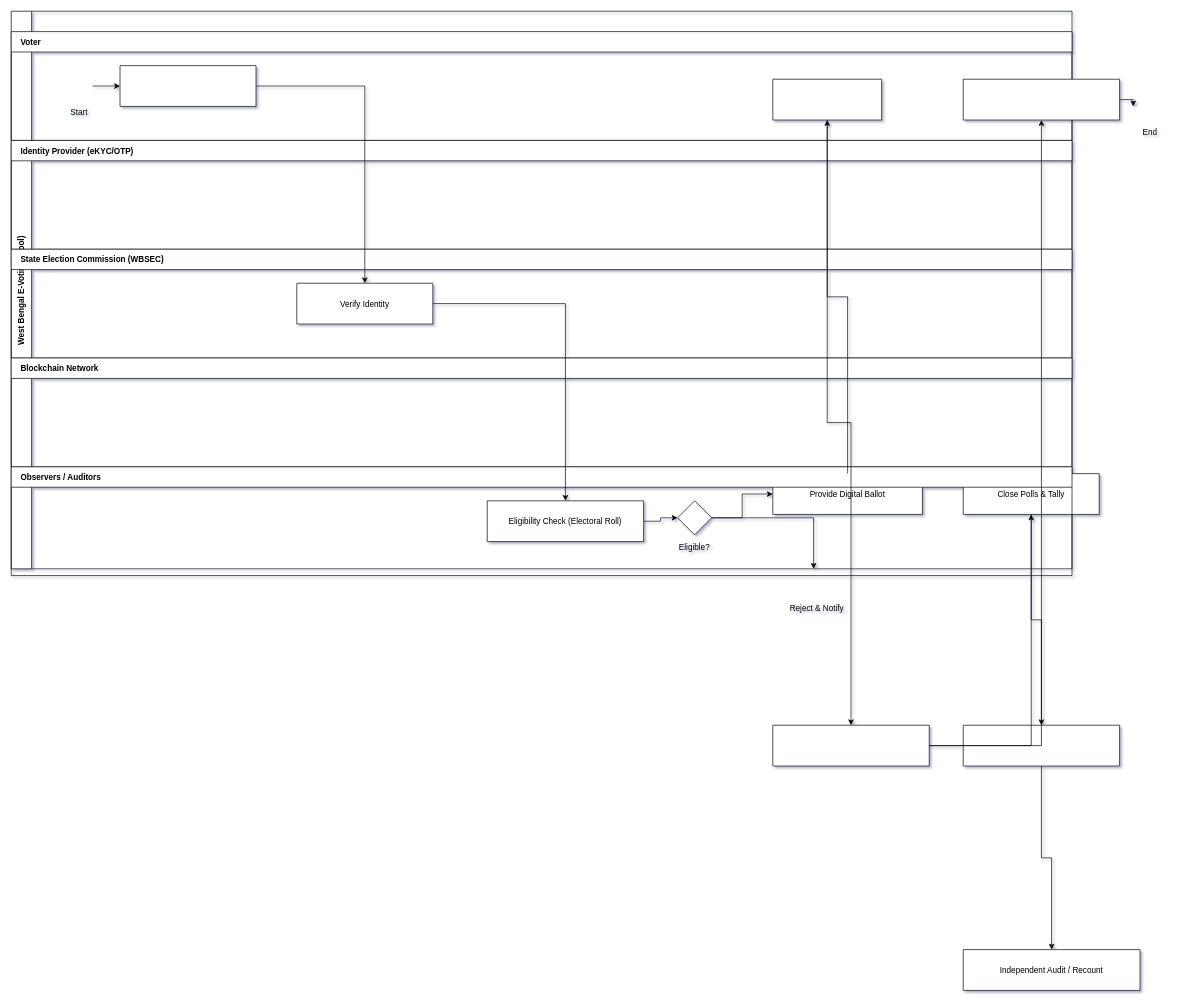
This 1189x1002 diagram has some shape labels left out. The shapes that lost their labels are listed below. From the top down, each one's centre as x and y in pixels, then its label:
the point at 187,85: Login & MFA (eKYC/OTP)
the point at 827,99: Cast Vote
the point at 1041,99: Send Confirmation (Receipt hash)
the point at 850,745: Record Encrypted Vote
the point at 1041,745: Publish Results & Logs
